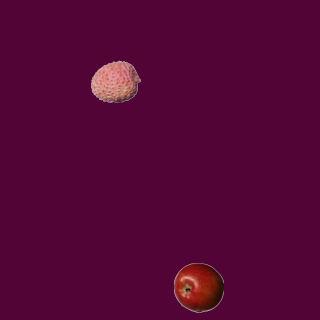Apple Braeburn: (173, 262, 223, 312)
Lychee: (90, 56, 140, 106)
